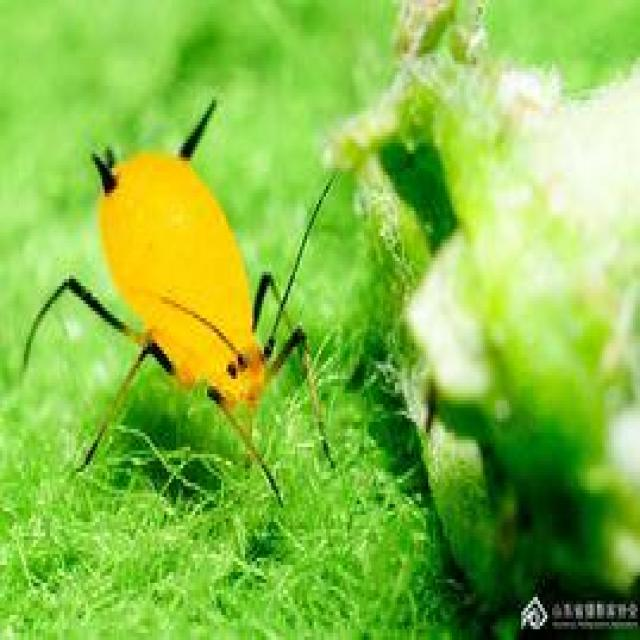Aphids: (25, 105, 334, 541)
